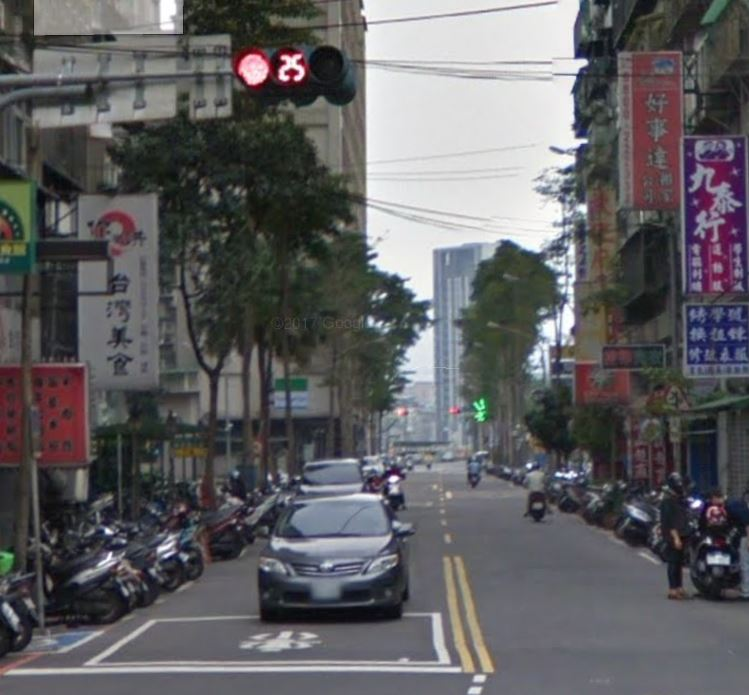Traffic_light_red: (232, 47, 350, 89)
